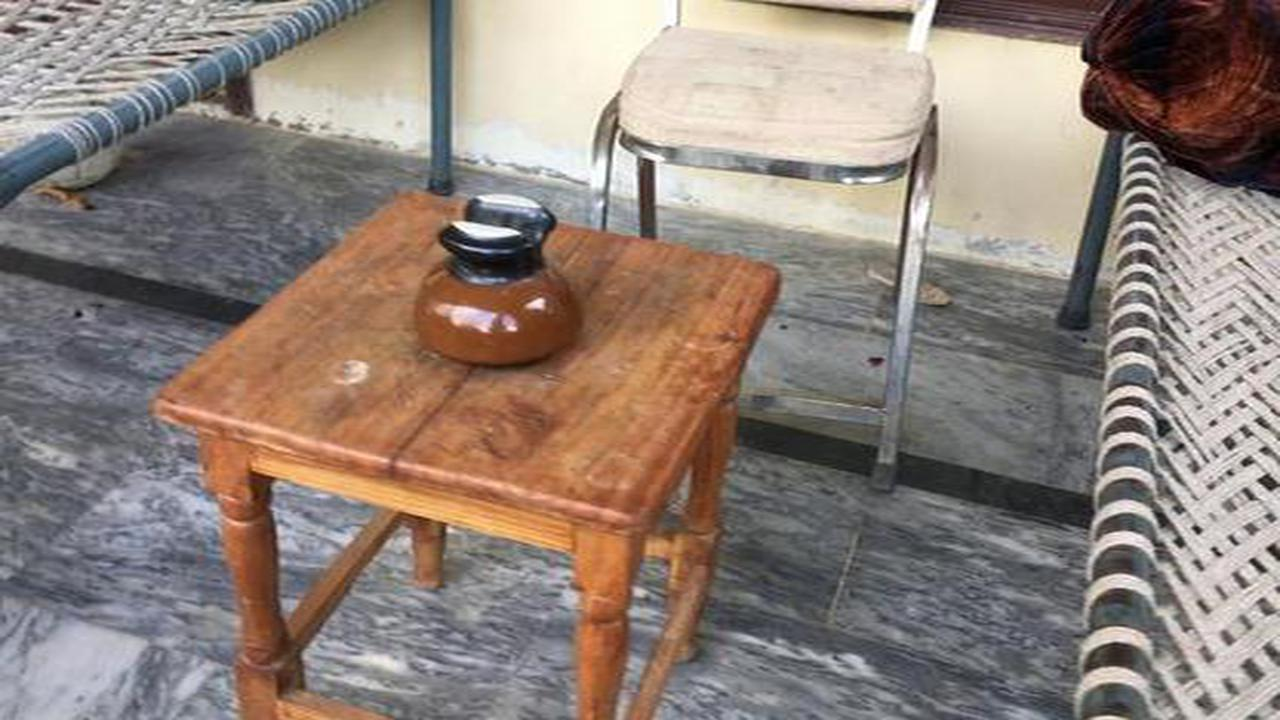insulator_pin: (388, 181, 601, 378)
